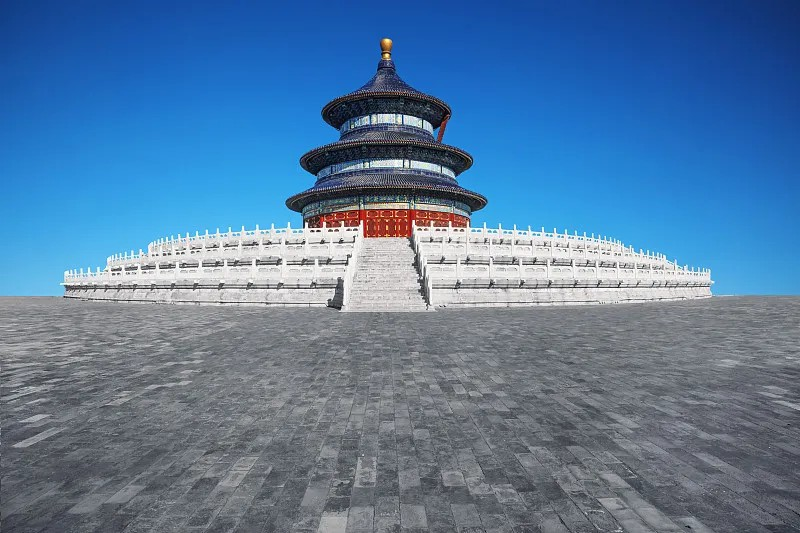Heaven: (284, 36, 487, 237)
